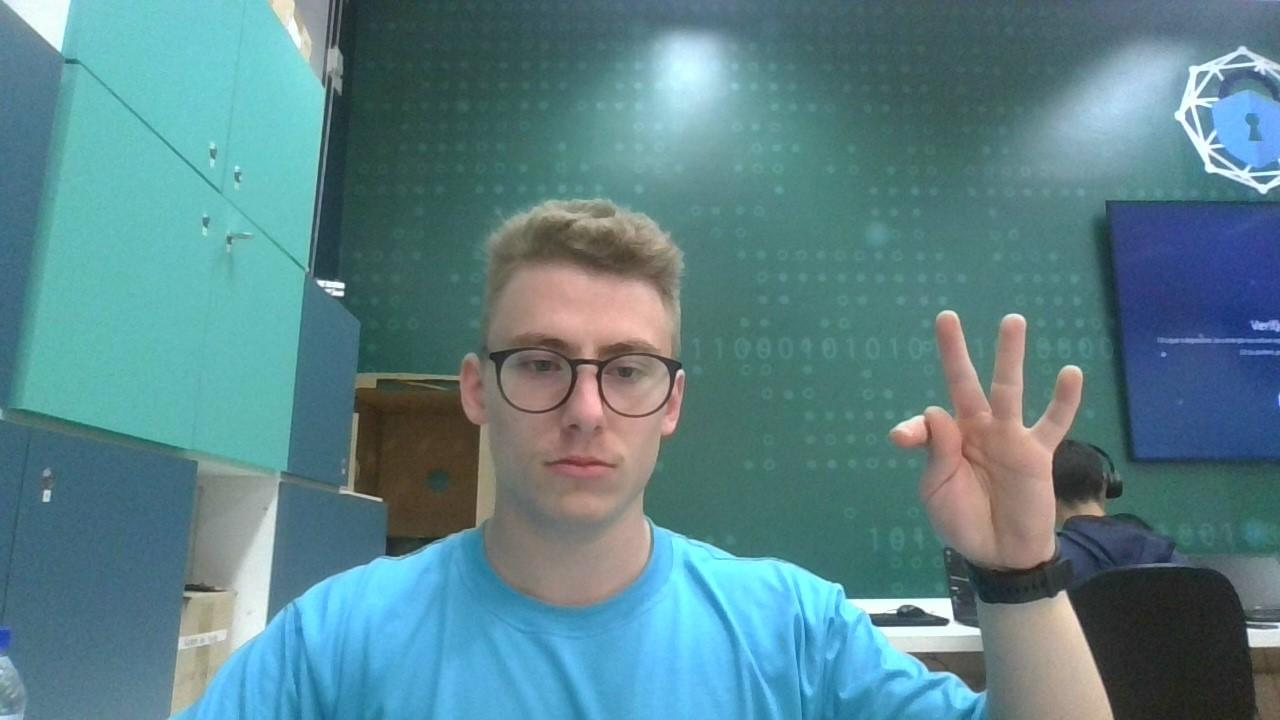T: (885, 302, 1095, 572)
